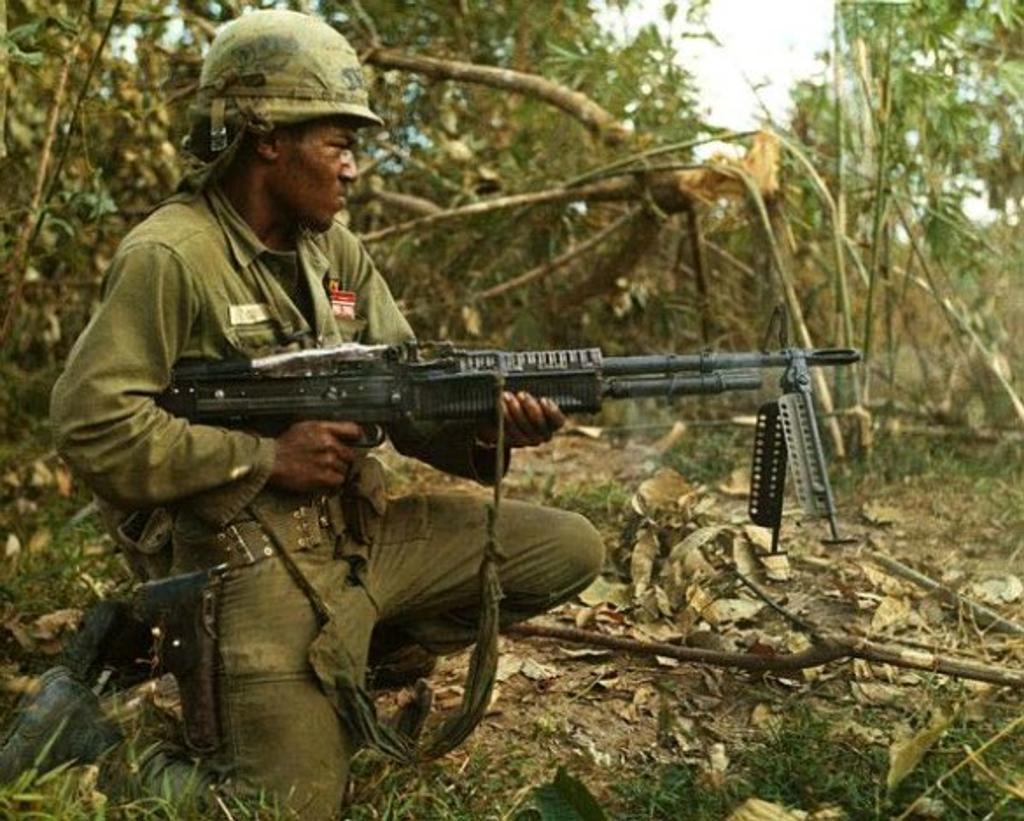face: (275, 103, 361, 225)
